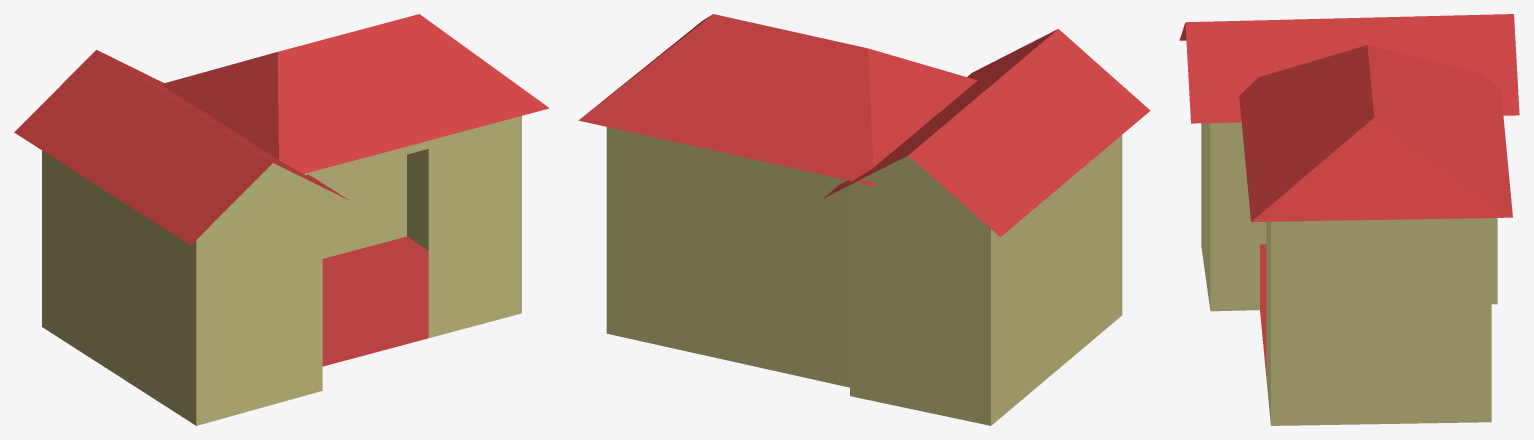
3 renders of one model, left to right at view 1: azimuth 30°, elevation 25°; view 2: azimuth 150°, elevation 25°; view 3: azimuth 270°, elevation 25°, orthographic. The views are drawn at different scales.
Visible parts, largest first — view 1: group_9, group_3, group_5, group_7, group_6, group_8; view 2: group_5, group_9, group_3, group_7, group_4, group_8; view 3: group_5, group_3, group_7, group_9, group_4, group_8, group_6, group_10.
Part boxes in pixels (<box>): group_9: <box>42,150,322,425</box>; group_3: <box>161,14,549,173</box>; group_5: <box>304,116,521,337</box>; group_7: <box>14,50,347,245</box>; group_6: <box>322,236,428,366</box>; group_8: <box>14,50,347,244</box>; group_5: <box>606,127,876,401</box>; group_9: <box>861,135,1122,425</box>; group_3: <box>579,14,977,186</box>; group_7: <box>823,29,1150,236</box>; group_4: <box>579,41,875,184</box>; group_8: <box>828,29,1147,235</box>; group_5: <box>1239,99,1497,425</box>; group_3: <box>1239,45,1512,221</box>; group_7: <box>1179,14,1519,122</box>; group_9: <box>1201,122,1266,311</box>; group_4: <box>1253,81,1512,221</box>; group_8: <box>1186,22,1518,123</box>; group_6: <box>1260,296,1266,375</box>; group_10: <box>1260,244,1266,295</box>.
Size of the model in its own units: 17.64 by 12.34 by 11.3.
